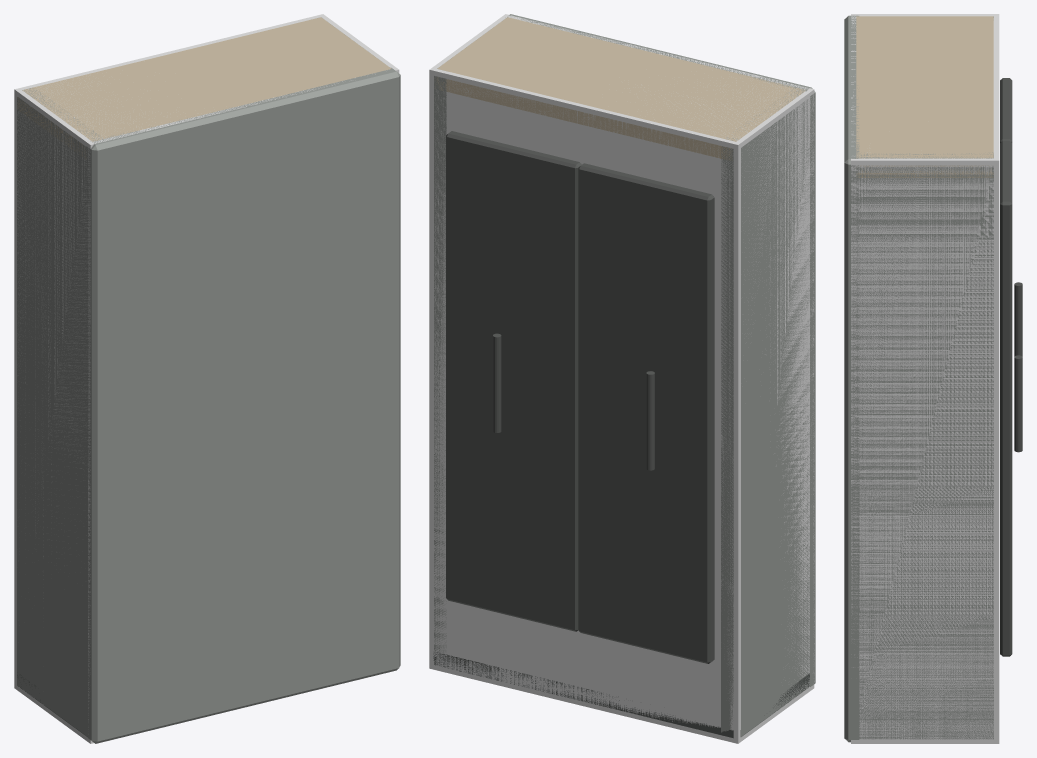
Rendered from basic.glb.
The picture shows the model from 3 angles, left to right: view 1: azimuth 30°, elevation 25°; view 2: azimuth 150°, elevation 25°; view 3: azimuth 270°, elevation 25°; orthographic projection. The views are drawn at different scales.
Parts seen in each view (by area): view 1: Cabinet_Back, Cabinet_Side, Cabinet_Top, COL_OFFICE_CABINETS_BASIC; view 2: COL_OFFICE_CABINETS_BASIC, Cabinet_Door_-1, Cabinet_Door_1, Cabinet_Side, Cabinet_Top, Cabinet_Side.001, Cabinet_Back, Cabinet_Bottom, Cabinet_Handle_-1, Cabinet_Handle_1; view 3: COL_OFFICE_CABINETS_BASIC, Cabinet_Side.001, Cabinet_Top, Cabinet_Back, Cabinet_Door_1, Cabinet_Handle_1, Cabinet_Door_-1, Cabinet_Handle_-1.
Part boxes in pixels (box(x1,y1,x2,y2)): Cabinet_Back: box(86, 67, 400, 743); Cabinet_Side: box(17, 88, 102, 736); Cabinet_Top: box(17, 17, 391, 159); COL_OFFICE_CABINETS_BASIC: box(14, 14, 399, 743); COL_OFFICE_CABINETS_BASIC: box(429, 14, 814, 743); Cabinet_Door_-1: box(578, 163, 714, 663); Cabinet_Door_1: box(446, 131, 581, 631); Cabinet_Side: box(721, 88, 809, 736); Cabinet_Top: box(435, 17, 805, 160); Cabinet_Side.001: box(434, 17, 507, 666); Cabinet_Back: box(505, 14, 815, 686); Cabinet_Bottom: box(433, 652, 809, 738); Cabinet_Handle_-1: box(646, 371, 654, 470); Cabinet_Handle_1: box(493, 333, 501, 432); COL_OFFICE_CABINETS_BASIC: box(851, 14, 999, 743); Cabinet_Side.001: box(856, 152, 993, 739); Cabinet_Top: box(856, 16, 993, 177); Cabinet_Back: box(844, 15, 859, 742); Cabinet_Door_1: box(1000, 141, 1012, 656); Cabinet_Handle_1: box(1014, 355, 1022, 452); Cabinet_Door_-1: box(1000, 78, 1012, 142); Cabinet_Handle_-1: box(1014, 282, 1022, 356).
Size of the model in its own units: 0.989 by 1.83 by 0.5085.
